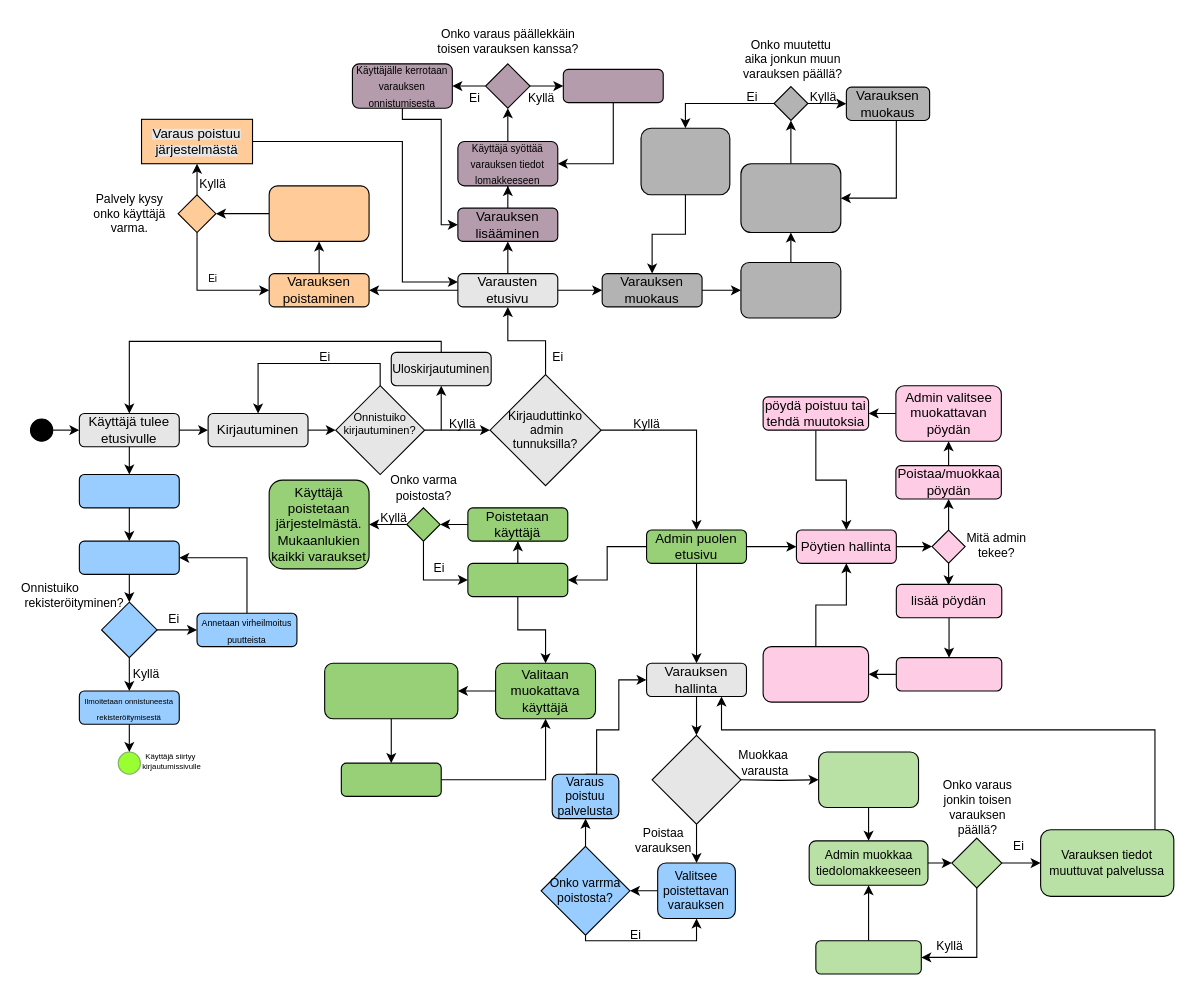
The diagram is 1193 pixels wide and 993 high, and some of its shapes have lost their labels. Here are the shapes that lost their labels. From the top down, the centre of each, then its label:
At (612,85): "Käyttäjä saa virheilmoituksen".
At (685,161): "Käyttäjälle kerrotaan varauksen tallentamisesta".
At (318,213): "Käyttäjä poistaa haluamansa varauksen".
At (790,198): "Käyttäjä muokkaa varauksen tietoja".
At (790,289): "Käyttäjä valitsee muokatavan varauksen".
At (128,490): "Rekisteröinti".
At (128,557): "Käyttäjä täytää rekisteröintilomakeen".
At (517,579): "Käyttäjien hallinta".
At (391,690): "Admin syöttää uudet tiedotlomakkeeseen".
At (815,673): "pöytä tallennetaan palveluun".
At (948,674): "Syötää pöydän nimen".
At (390,779): "Admin tallentaa tiedot palveluun".
At (696,779): "Mitä tekee admin?".
At (868,779): "Admin valitse muokattavan varauksen".
At (868,957): "Admin saa virheilmoituksen".
